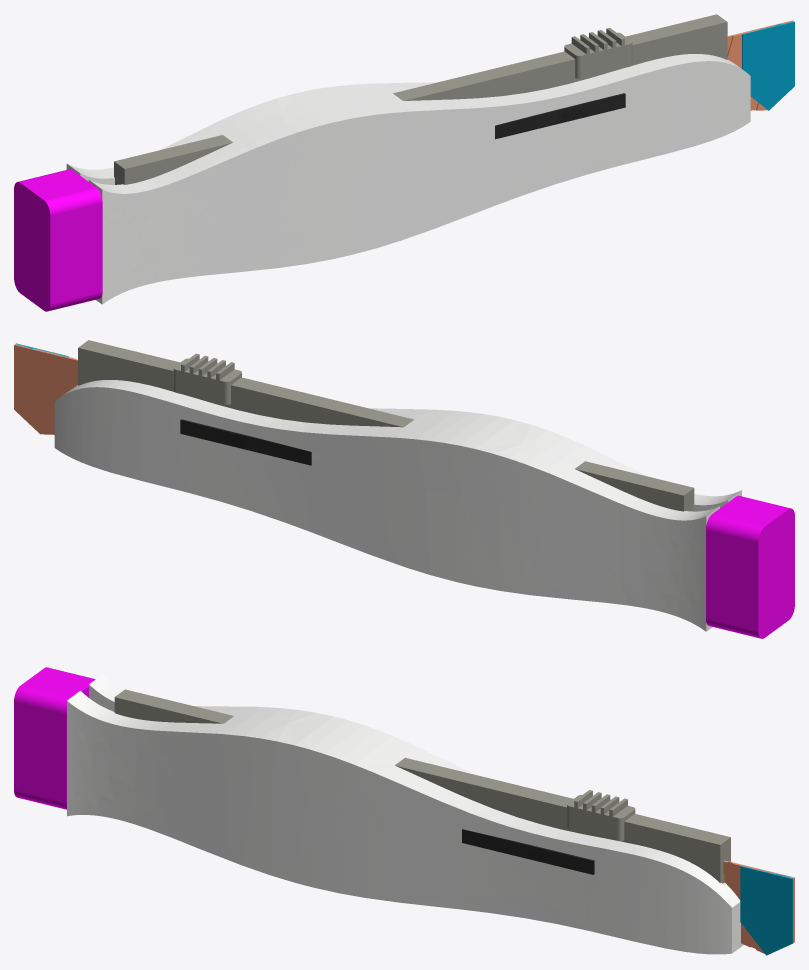
Rendered from Handtools_Knife__0000.glb.
3 renders of one model, top to bottom at view 1: azimuth 30°, elevation 25°; view 2: azimuth 150°, elevation 25°; view 3: azimuth 330°, elevation 25°, orthographic.
Parts seen in each view (by area): view 1: handle::handle_shell, end_cap::end_cap_body, handle::top_channel, blade_carrier::blade_tip, blade_carrier::thumb_button, handle::thumb_grip, blade_carrier::blade_steel; view 2: handle::handle_shell, end_cap::end_cap_body, handle::top_channel, blade_carrier::blade_steel, blade_carrier::thumb_button, handle::thumb_grip; view 3: handle::handle_shell, handle::top_channel, end_cap::end_cap_body, blade_carrier::blade_tip, blade_carrier::thumb_button, handle::thumb_grip, blade_carrier::blade_steel.
Part boxes in pixels (x1,y1,x2,y2): handle::handle_shell: [66, 54, 750, 304]; end_cap::end_cap_body: [14, 169, 102, 311]; handle::top_channel: [114, 14, 727, 184]; blade_carrier::blade_tip: [742, 21, 794, 110]; blade_carrier::thumb_button: [564, 27, 632, 78]; handle::thumb_grip: [495, 93, 625, 139]; blade_carrier::blade_steel: [727, 20, 793, 110]; handle::handle_shell: [54, 380, 741, 631]; end_cap::end_cap_body: [706, 495, 794, 638]; handle::top_channel: [78, 340, 694, 511]; blade_carrier::blade_steel: [14, 344, 77, 434]; blade_carrier::thumb_button: [173, 353, 241, 404]; handle::thumb_grip: [180, 419, 311, 465]; handle::handle_shell: [67, 674, 743, 954]; handle::top_channel: [114, 689, 730, 883]; end_cap::end_cap_body: [14, 667, 95, 809]; blade_carrier::blade_tip: [740, 866, 793, 955]; blade_carrier::thumb_button: [567, 790, 635, 841]; handle::thumb_grip: [462, 829, 594, 874]; blade_carrier::blade_steel: [723, 860, 794, 953].
Size of the model in its own units: 0.1744 by 0.0302 by 0.0157.
Materials: 6 (2 with a texture image).
